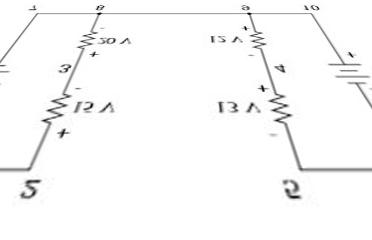resistor: (41, 88, 72, 124), (266, 87, 294, 124), (70, 26, 95, 54), (249, 23, 270, 53)
